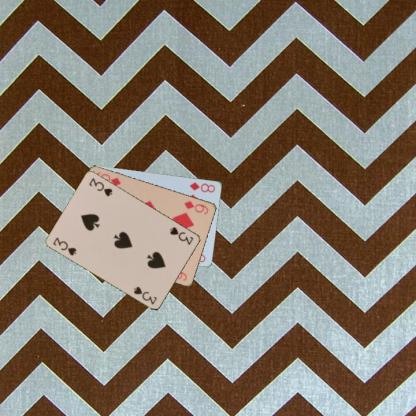3s: (50, 235, 78, 257), (168, 224, 194, 246)
6d: (182, 198, 210, 216)
8d: (187, 179, 216, 194)
